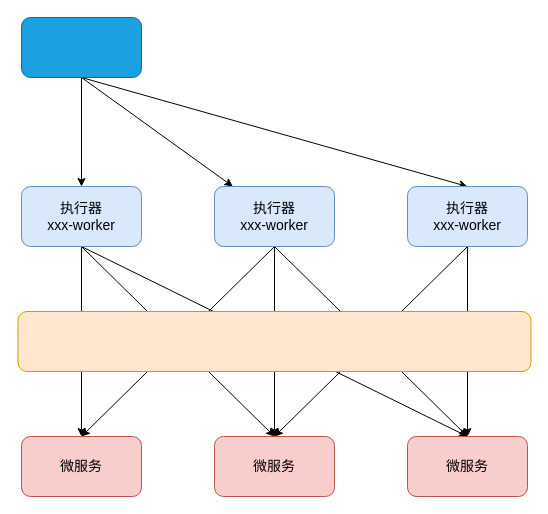
Some shapes in this 548 by 514 pixel diagram are drawn without their labels. The shapes that lost their labels are listed below. From the top down, each one's box as (x1, y1, x2, y2) in pixels, then its label:
(20, 16, 142, 78): 任务调度中心
(17, 310, 531, 372): RPC
